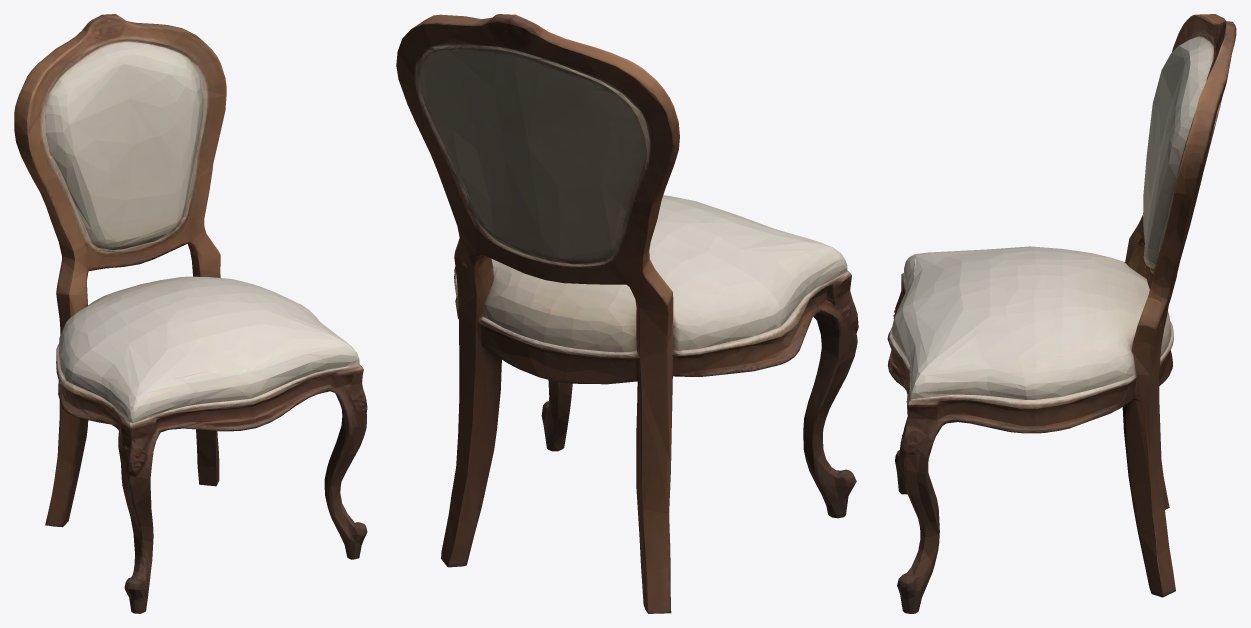
The model's file is ballroom_chair.glb.
3 views of the same model, side by side, from view 1: azimuth 30°, elevation 25°; view 2: azimuth 150°, elevation 25°; view 3: azimuth 270°, elevation 25° (orthographic). The views are drawn at different scales.
Parts seen in each view (by area): view 1: geometry_0; view 2: geometry_0; view 3: geometry_0.
Boxes of the visible parts, left/top/right/bottom form: geometry_0: left=14, top=14, right=367, bottom=613; geometry_0: left=396, top=14, right=858, bottom=613; geometry_0: left=887, top=14, right=1236, bottom=613.
Bounding box in the file's own units: 0.5659 × 1 × 0.6013.
Materials: 1 (1 with a texture image).
